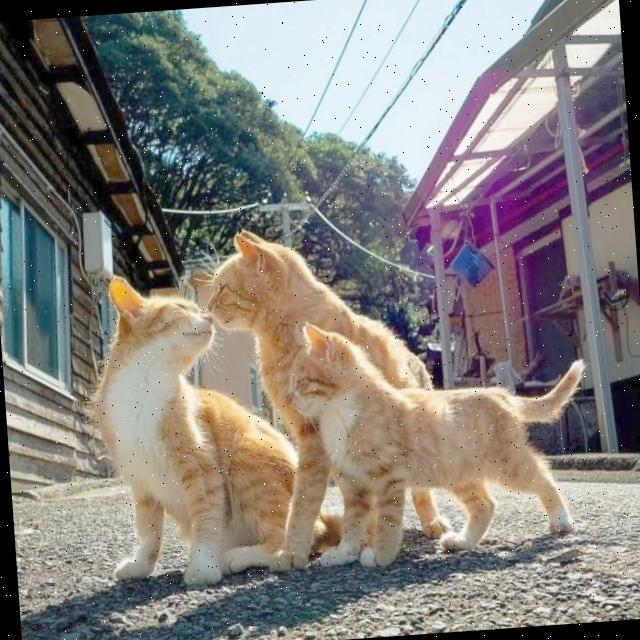Cats: (268, 306, 608, 576), (90, 272, 268, 582), (199, 224, 328, 382)
